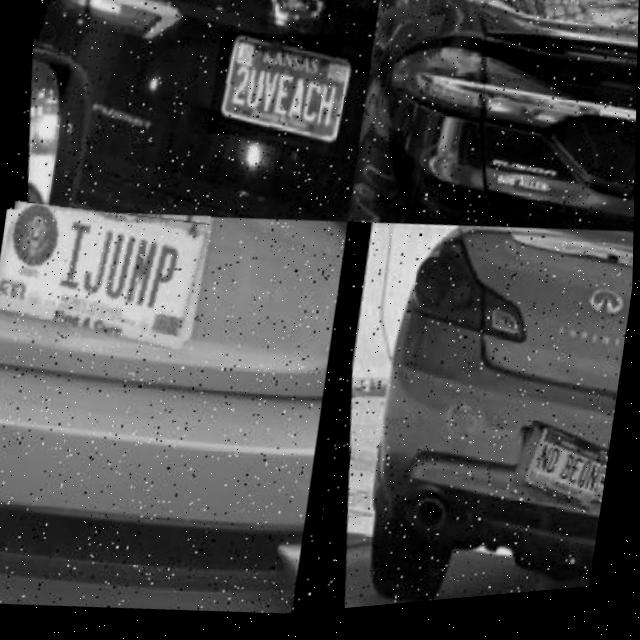LicensePlate: (0, 201, 210, 353), (210, 36, 342, 144), (516, 431, 610, 522)
